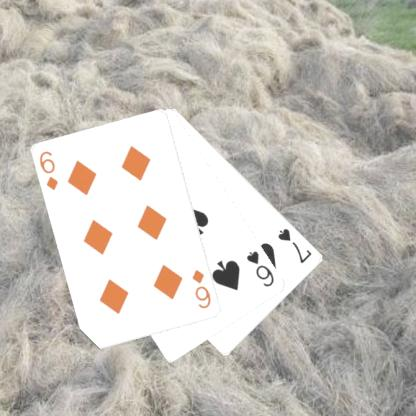6D: (36, 148, 60, 192), (189, 267, 213, 310)
6S: (244, 248, 276, 288)
7S: (275, 226, 314, 265)
